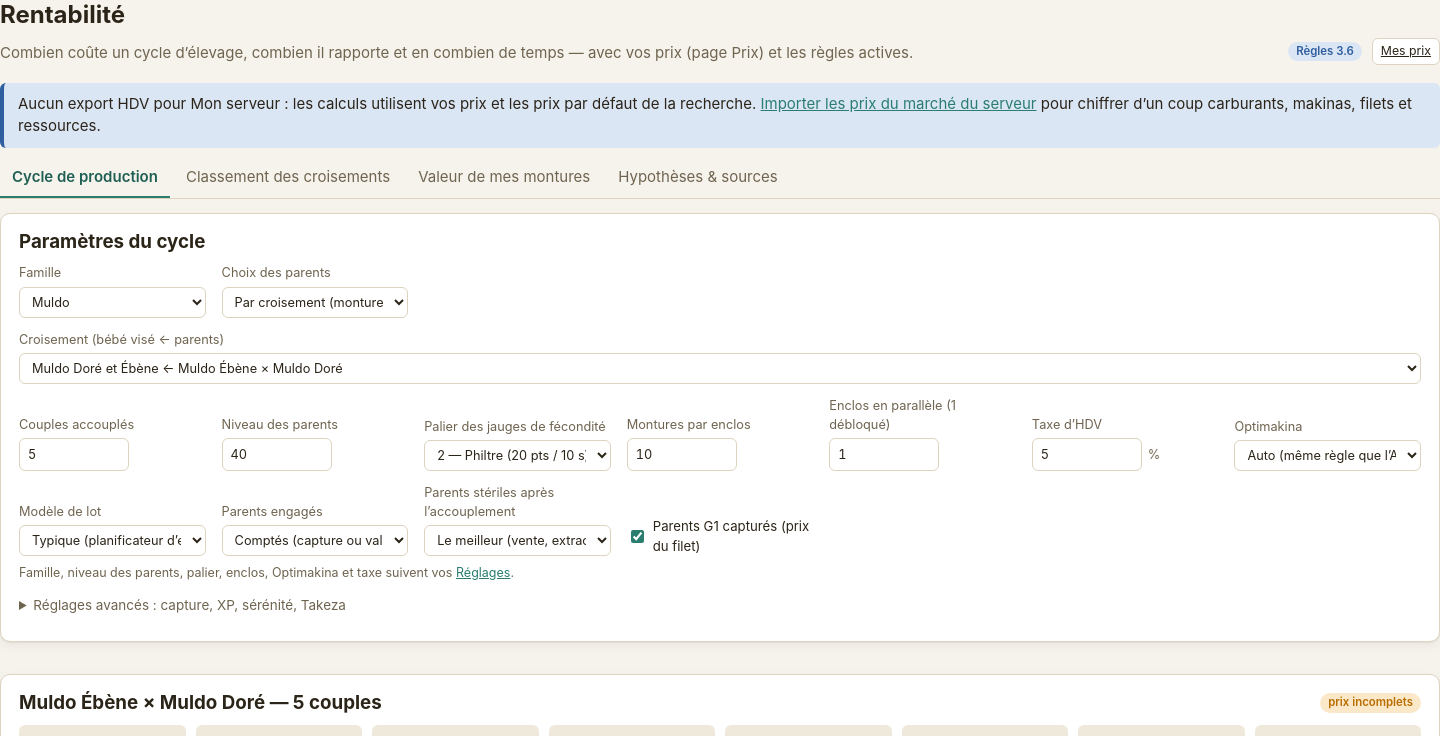
Test: Rentabilité : paramètres et Réglages › l’onglet Hypothèses affiche la taxe utilisée par le calcul
Replace the text in the number field labelled "Taxe d’HDV %" with "3": (1087, 454) left=1032, top=438, right=1142, bottom=471
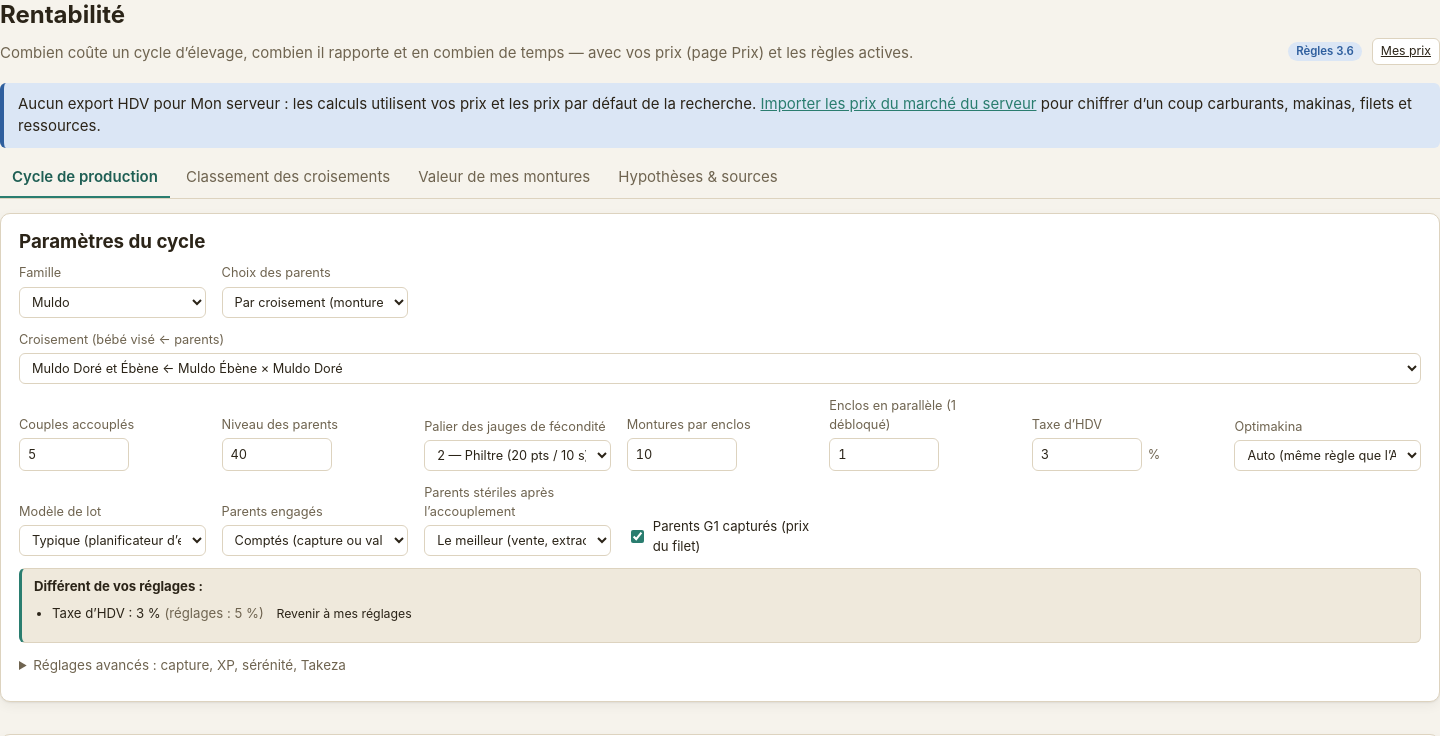
Click the tab "Hypothèses & sources": (698, 178) left=606, top=158, right=790, bottom=198
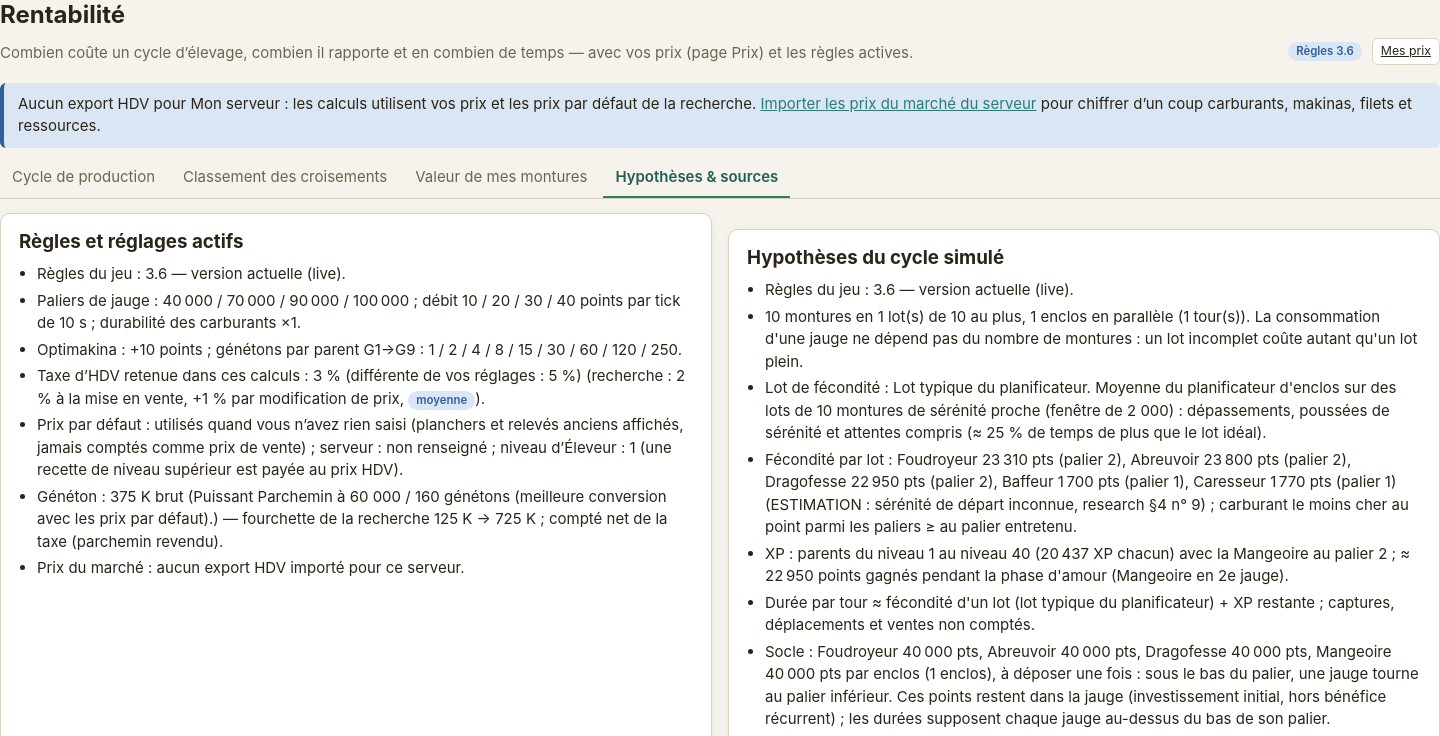
Now the list item "Taxe d’HDV retenue dans ces calculs : 3 %" is shown, box left=37, top=365, right=693, bottom=410
Now the list item "différente de vos réglages : 5 %" is shown, box left=341, top=366, right=582, bottom=385
